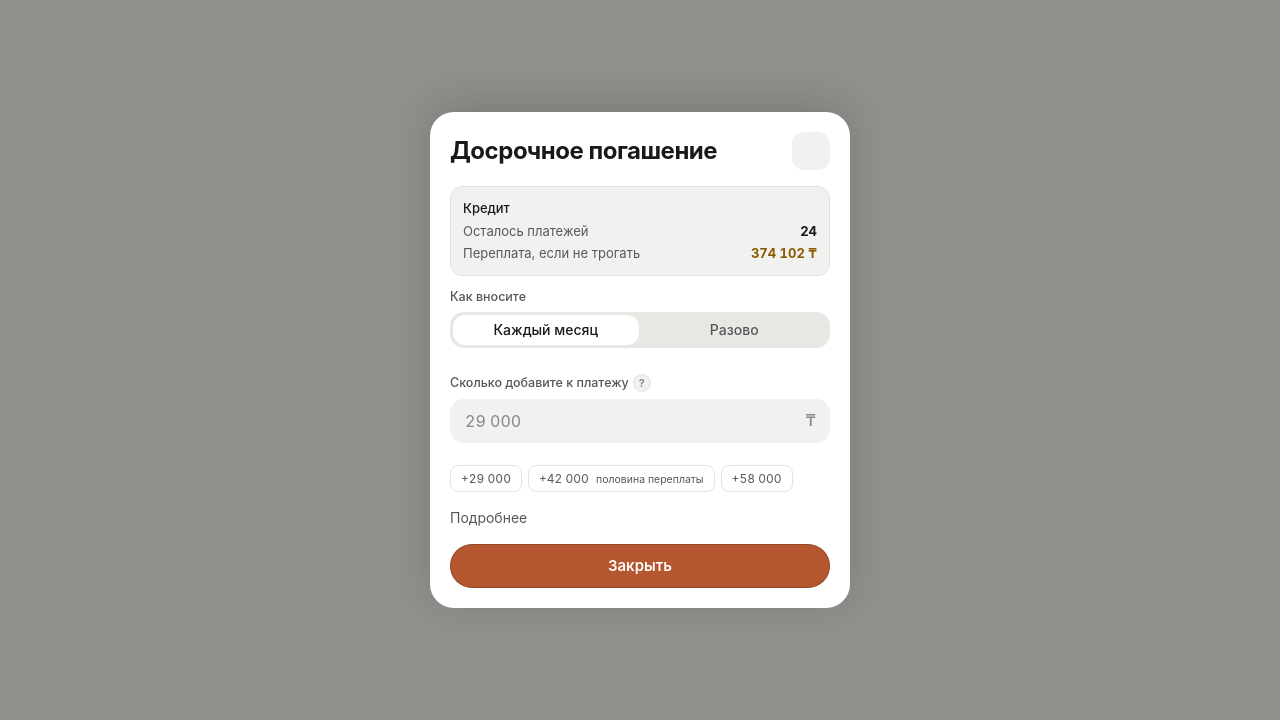
Test: FG-25: калькулятор досрочки › добавка, с которой срок почти не меняется, — «Срок почти не изменится» и та же строка переплаты
Type "1" into the field with placeholder "29 000". click: [640, 420]
box: x1=450 y1=398 x2=830 y2=442
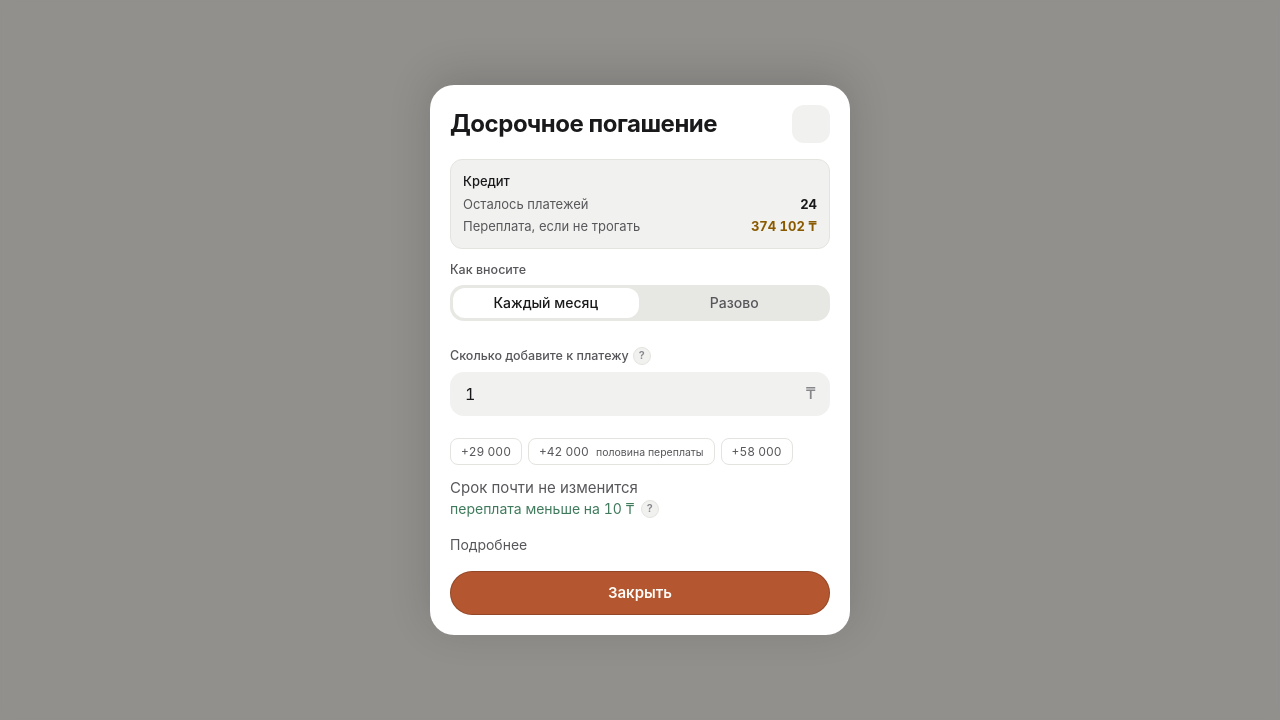
Result: the text "Срок почти не изменится" is shown at x1=450 y1=478 x2=638 y2=497
Result: the text "переплата меньше на 10 ₸" is shown at x1=450 y1=499 x2=635 y2=519
